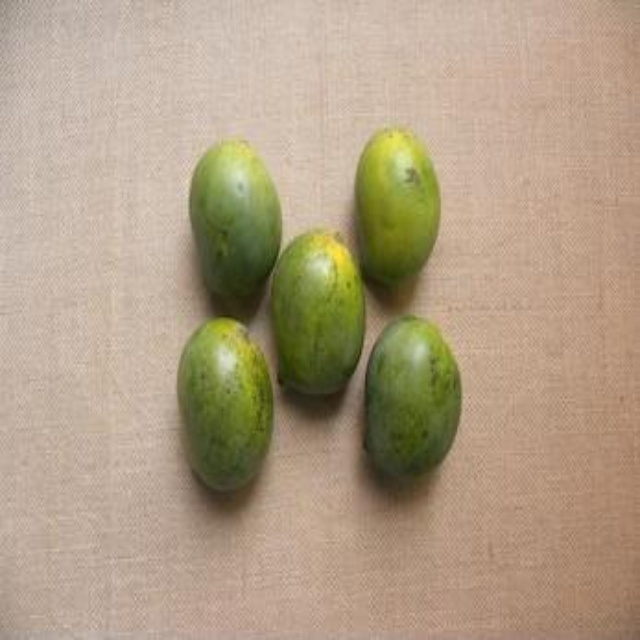mango: (178, 324, 270, 493), (193, 138, 277, 310), (370, 324, 461, 480), (355, 124, 439, 285), (281, 231, 363, 394)
